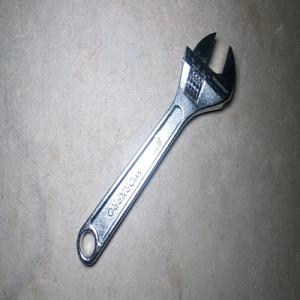Wrench: (76, 32, 235, 265)
